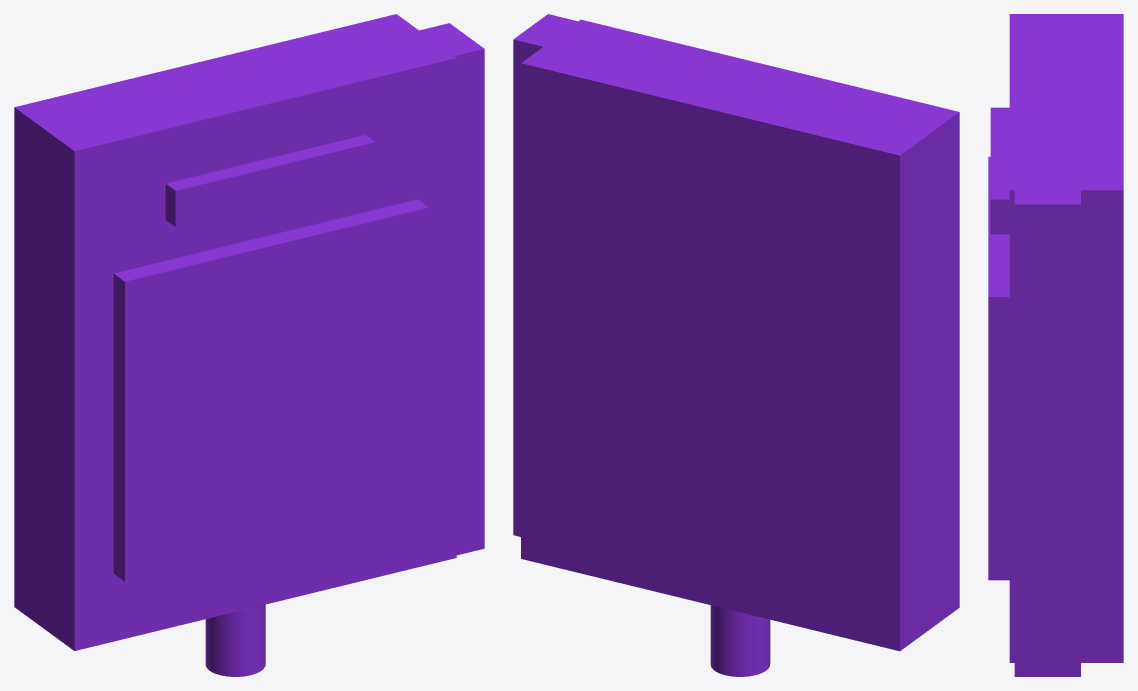
Rendered from MOD-I2C-SWIPE.glb.
The picture shows the model from 3 angles, left to right: view 1: azimuth 30°, elevation 25°; view 2: azimuth 150°, elevation 25°; view 3: azimuth 270°, elevation 25°; orthographic projection. The views are drawn at different scales.
Visible parts, largest first — view 1: MOD-I2C-SWIPE; view 2: MOD-I2C-SWIPE; view 3: MOD-I2C-SWIPE.
Boxes of the visible parts, bbox=[...] form: MOD-I2C-SWIPE: bbox=[14, 14, 484, 676]; MOD-I2C-SWIPE: bbox=[513, 14, 959, 676]; MOD-I2C-SWIPE: bbox=[988, 14, 1123, 676].
Bounding box in the file's own units: 0.095 × 0.128 × 0.0285.
